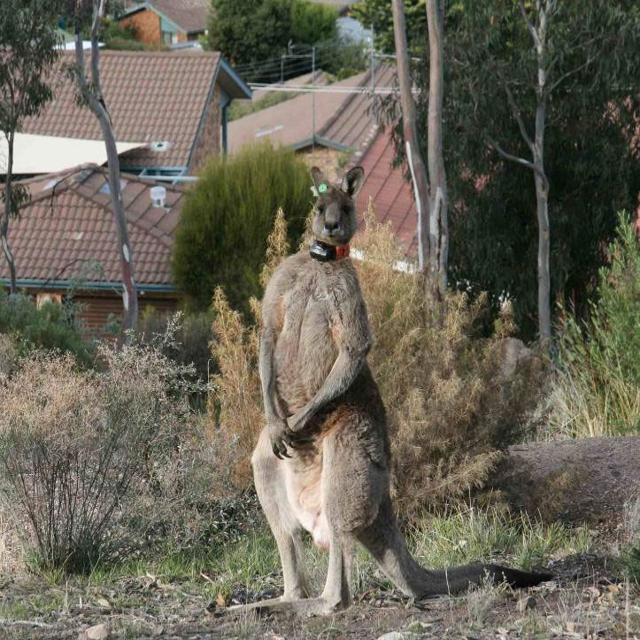kangaroo: (237, 171, 400, 609)
